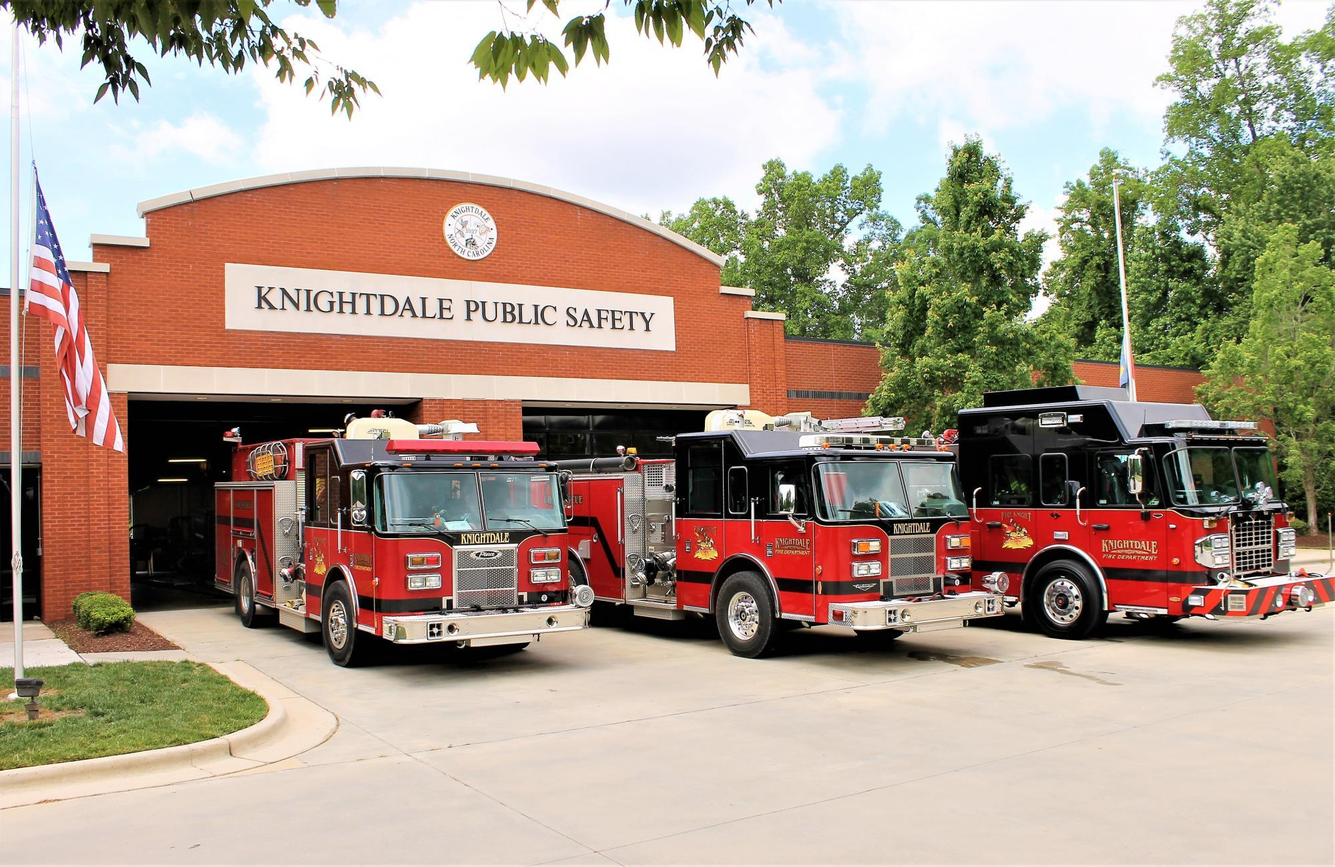Fire-engine: (544, 407, 1015, 658), (212, 406, 595, 667), (945, 384, 1328, 639)
